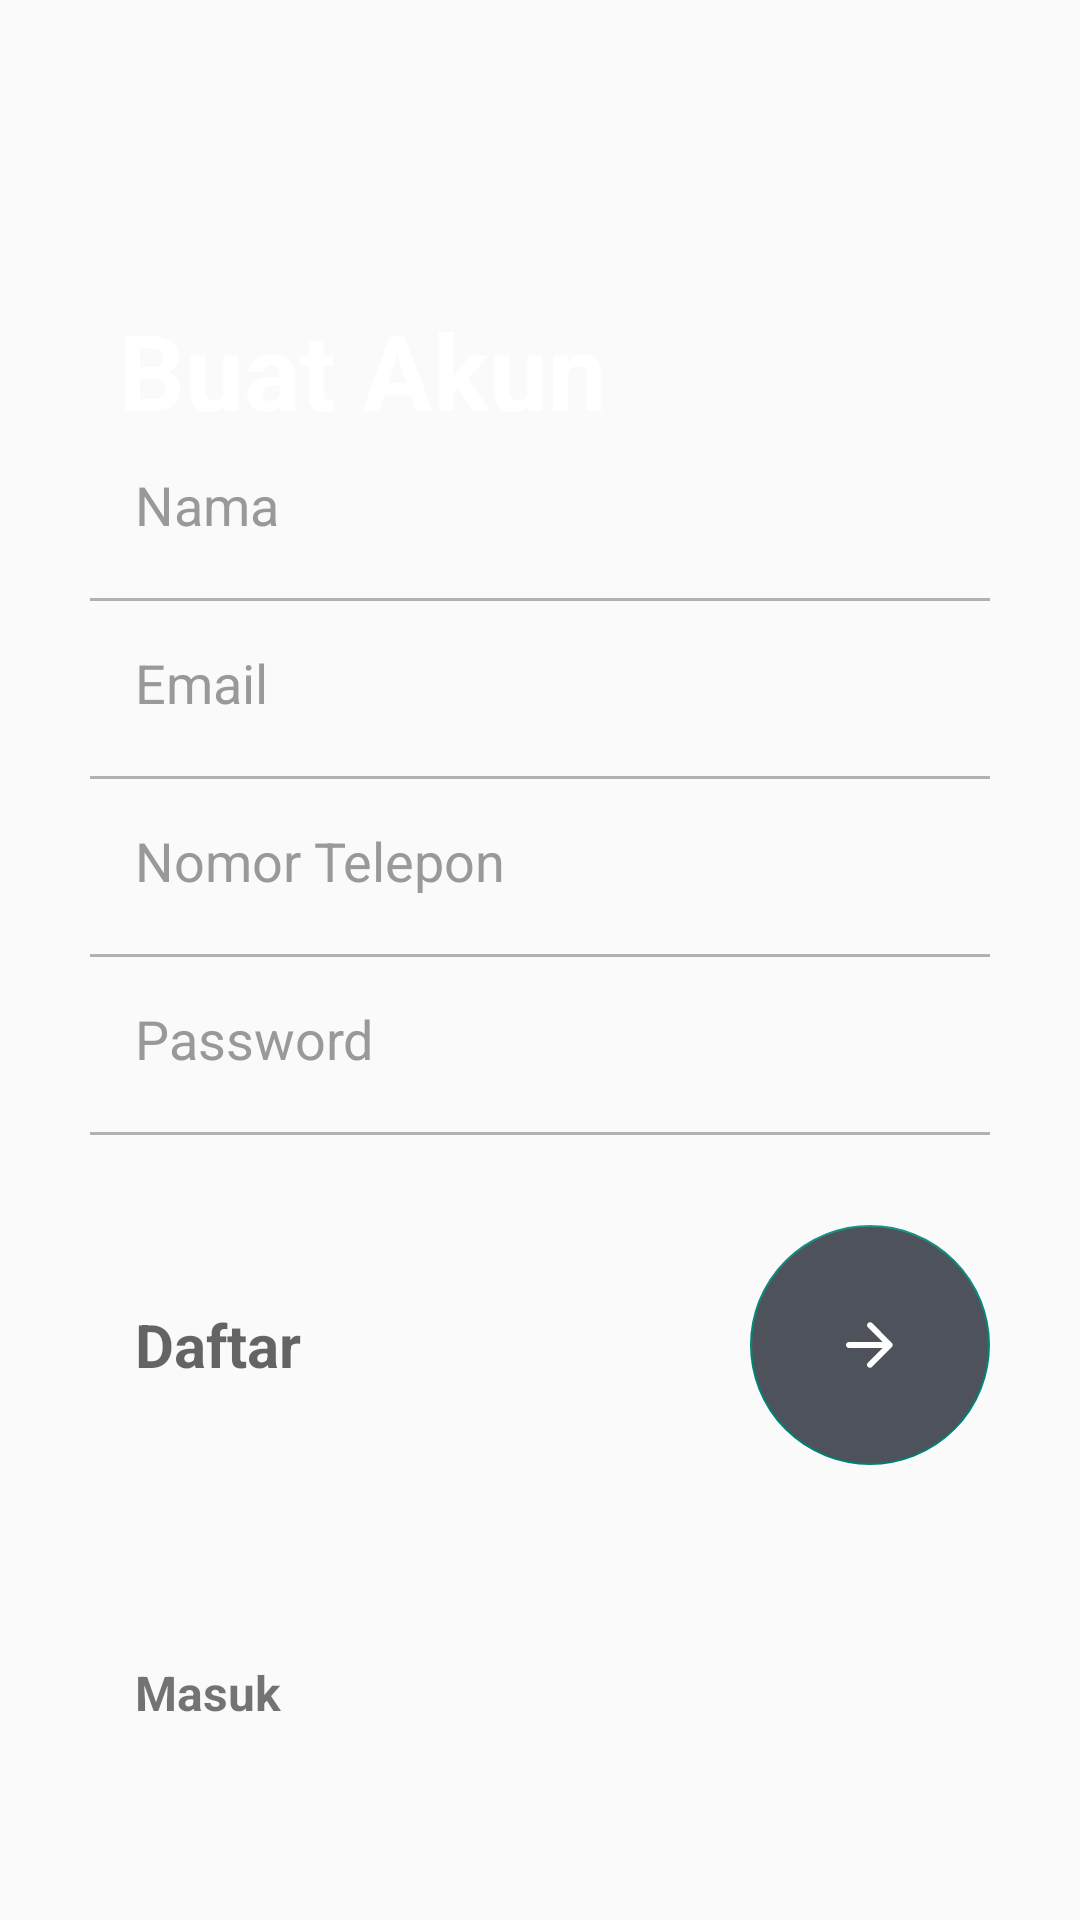

Named icons in this screenshot (1080×1920) and their bounding boxes, (x1, y1, x2, y2):
arrow fwd: (750, 1225, 990, 1465)
